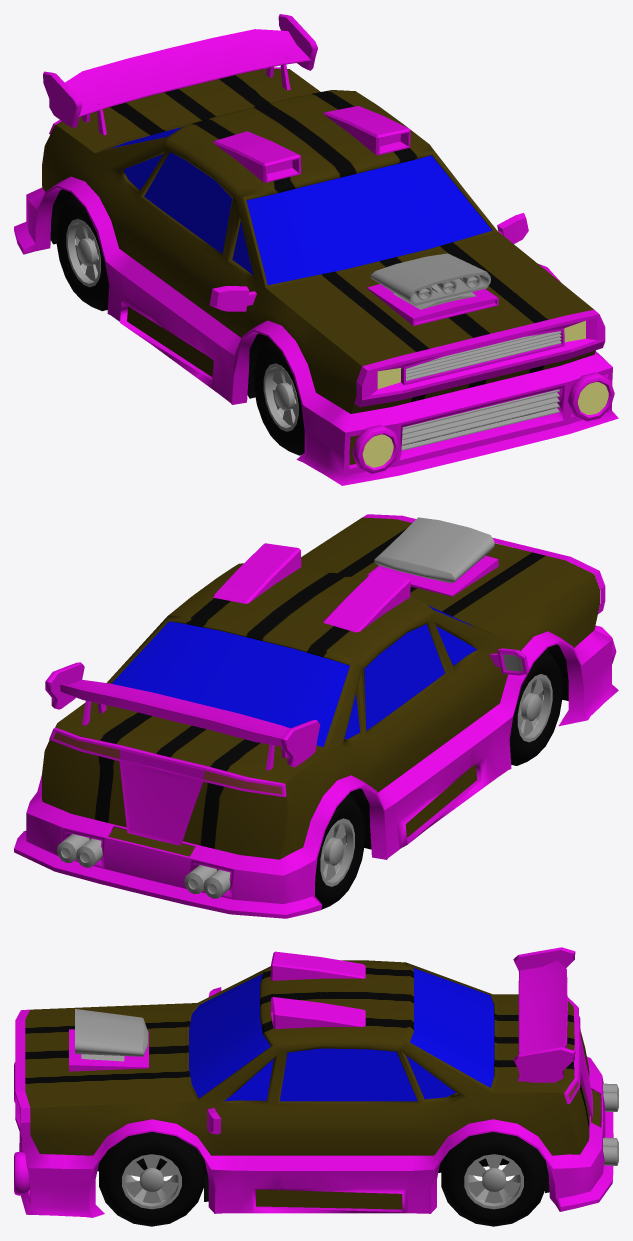
The model's file is Muscle Evolution4 Pink TrilineBlackDarkYellow Blue LightGrey.glb.
3 views of the same model, one above another, from view 1: azimuth 30°, elevation 25°; view 2: azimuth 150°, elevation 25°; view 3: azimuth 270°, elevation 25° (orthographic). The views are drawn at different scales.
Visible parts, largest first — view 1: evo4_sillPartR_f1_dupl, evo4_evo4_polySurface1_f1_dupl, evo4_frontGlass_f1_dupl, evo4_Spoiler4_f1_dupl, evo4_frontBlockGrid_f1_dupl, evo4_glasseBigR_f1_dupl, evo4_engine_f1_dupl, evo4_front_down_grid_f1_dupl, evo4_airtrap_r_f1_dupl, evo4_airtrap_l_f1_dupl, evo4_front_up_grid_f1_dupl, evo4_tire_rf_f1_dupl (+11 smaller); view 2: evo4_sillPartR_f1_dupl, evo4_evo4_polySurface1_f1_dupl, evo4_BackGlassGlass_f1_dupl, evo4_Spoiler4_f1_dupl, evo4_blockBackLights_f1_dupl, evo4_engine_f1_dupl, evo4_glasseBigR_f1_dupl, evo4_airtrap_r_f1_dupl, evo4_airtrap_l_f1_dupl, evo4_tire_rf2_f1_dupl, evo4_tire_rf_f1_dupl, evo4_rim_A_rf_f1_dupl (+9 smaller); view 3: evo4_sillPartR_f1_dupl, evo4_evo4_polySurface1_f1_dupl, evo4_BackGlassGlass_f1_dupl, evo4_Spoiler4_f1_dupl, evo4_glasseBigL_f1_dupl, evo4_frontGlass_f1_dupl, evo4_tire_lf_f1_dupl, evo4_tire_lb_f1_dupl, evo4_engine_f1_dupl, evo4_rim_A_lf_f1_dupl, evo4_rim_A_lb_f1_dupl, evo4_airtrap_l_f1_dupl (+9 smaller).
Part boxes in pixels (x1,y1,x2,y2): evo4_sillPartR_f1_dupl: [42, 69, 595, 464]; evo4_evo4_polySurface1_f1_dupl: [14, 176, 618, 485]; evo4_frontGlass_f1_dupl: [246, 155, 491, 285]; evo4_Spoiler4_f1_dupl: [43, 14, 317, 135]; evo4_frontBlockGrid_f1_dupl: [354, 309, 605, 407]; evo4_glasseBigR_f1_dupl: [144, 152, 232, 253]; evo4_engine_f1_dupl: [370, 253, 490, 309]; evo4_front_down_grid_f1_dupl: [401, 389, 559, 450]; evo4_airtrap_r_f1_dupl: [213, 131, 301, 182]; evo4_airtrap_l_f1_dupl: [323, 106, 410, 155]; evo4_front_up_grid_f1_dupl: [406, 331, 561, 381]; evo4_tire_rf_f1_dupl: [56, 194, 109, 311]; evo4_sillPartR_f1_dupl: [42, 517, 599, 870]; evo4_evo4_polySurface1_f1_dupl: [14, 630, 618, 918]; evo4_BackGlassGlass_f1_dupl: [111, 621, 349, 746]; evo4_Spoiler4_f1_dupl: [45, 662, 320, 770]; evo4_blockBackLights_f1_dupl: [49, 727, 286, 845]; evo4_engine_f1_dupl: [374, 517, 494, 583]; evo4_glasseBigR_f1_dupl: [364, 624, 444, 730]; evo4_airtrap_r_f1_dupl: [323, 567, 410, 632]; evo4_airtrap_l_f1_dupl: [213, 543, 301, 603]; evo4_tire_rf2_f1_dupl: [509, 648, 562, 765]; evo4_tire_rf_f1_dupl: [315, 793, 365, 909]; evo4_rim_A_rf_f1_dupl: [517, 674, 552, 742]; evo4_sillPartR_f1_dupl: [25, 960, 600, 1209]; evo4_evo4_polySurface1_f1_dupl: [19, 1056, 613, 1217]; evo4_BackGlassGlass_f1_dupl: [410, 967, 494, 1087]; evo4_Spoiler4_f1_dupl: [513, 947, 575, 1082]; evo4_glasseBigL_f1_dupl: [279, 1048, 417, 1101]; evo4_frontGlass_f1_dupl: [189, 974, 270, 1098]; evo4_tire_lf_f1_dupl: [99, 1132, 204, 1226]; evo4_tire_lb_f1_dupl: [441, 1132, 546, 1226]; evo4_engine_f1_dupl: [75, 1009, 148, 1061]; evo4_rim_A_lf_f1_dupl: [122, 1154, 181, 1209]; evo4_rim_A_lb_f1_dupl: [464, 1154, 523, 1209]; evo4_airtrap_l_f1_dupl: [270, 997, 365, 1028].
Bounding box in the file's own units: 177 × 120 × 337.
Materials: 8 (1 with a texture image).
